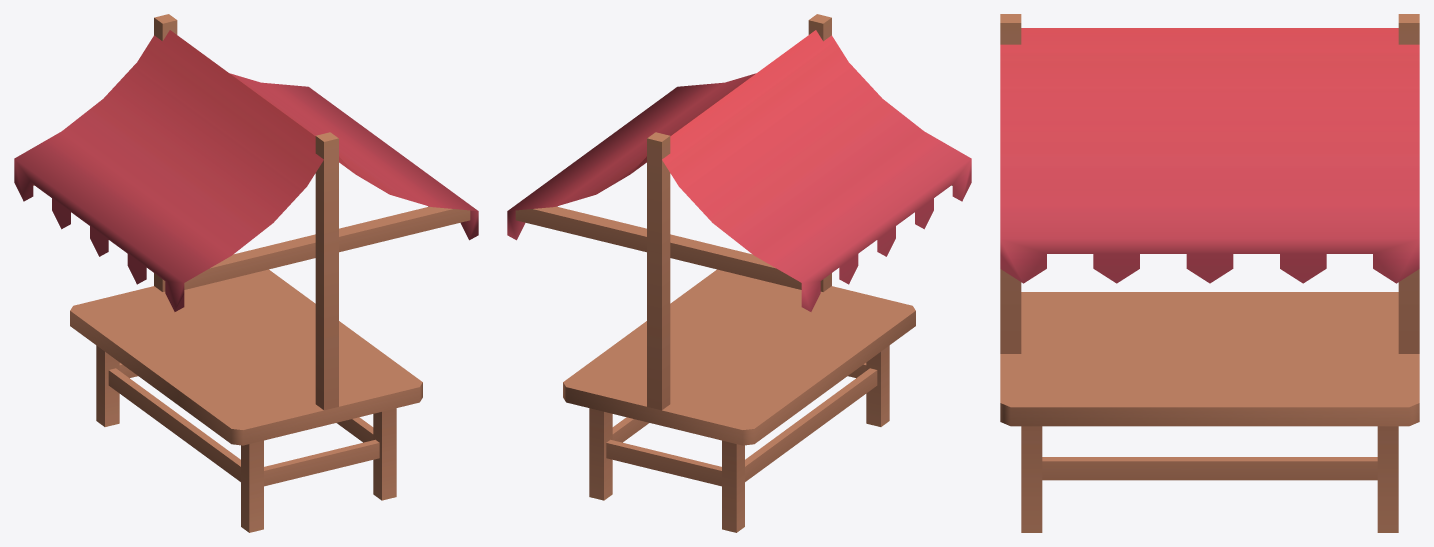
The model's file is stall-red.glb.
3 views of the same model, side by side, from view 1: azimuth 30°, elevation 25°; view 2: azimuth 150°, elevation 25°; view 3: azimuth 270°, elevation 25° (orthographic). The views are drawn at different scales.
Parts seen in each view (by area): view 1: stall-red; view 2: stall-red; view 3: stall-red.
Part boxes in pixels (x1,y1,x2,y2): stall-red: (14,14,478,532); stall-red: (507,14,971,532); stall-red: (1000,14,1419,532).
Bounding box in the file's own units: 1 × 1.24 × 1.
Materials: 1 (1 with a texture image).
